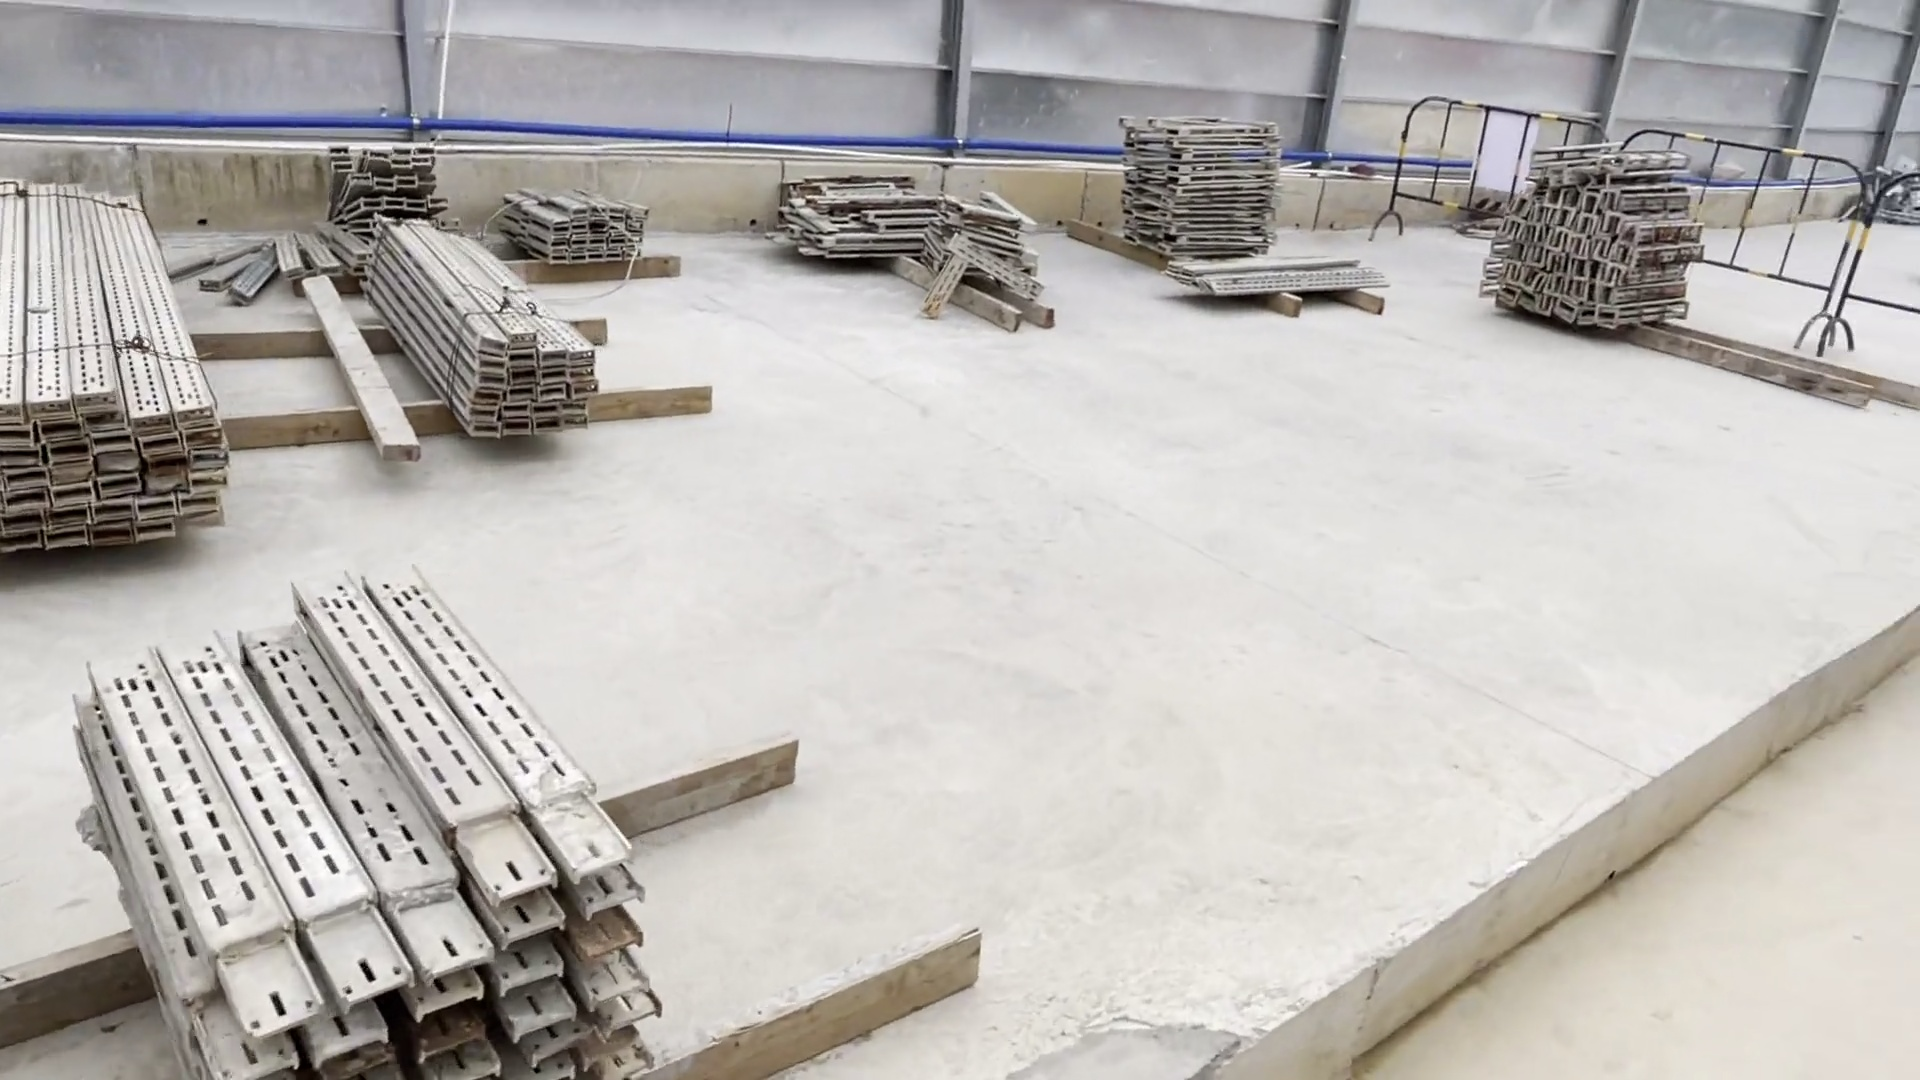fence: (1698, 136, 1920, 360), (1375, 86, 1495, 248)
